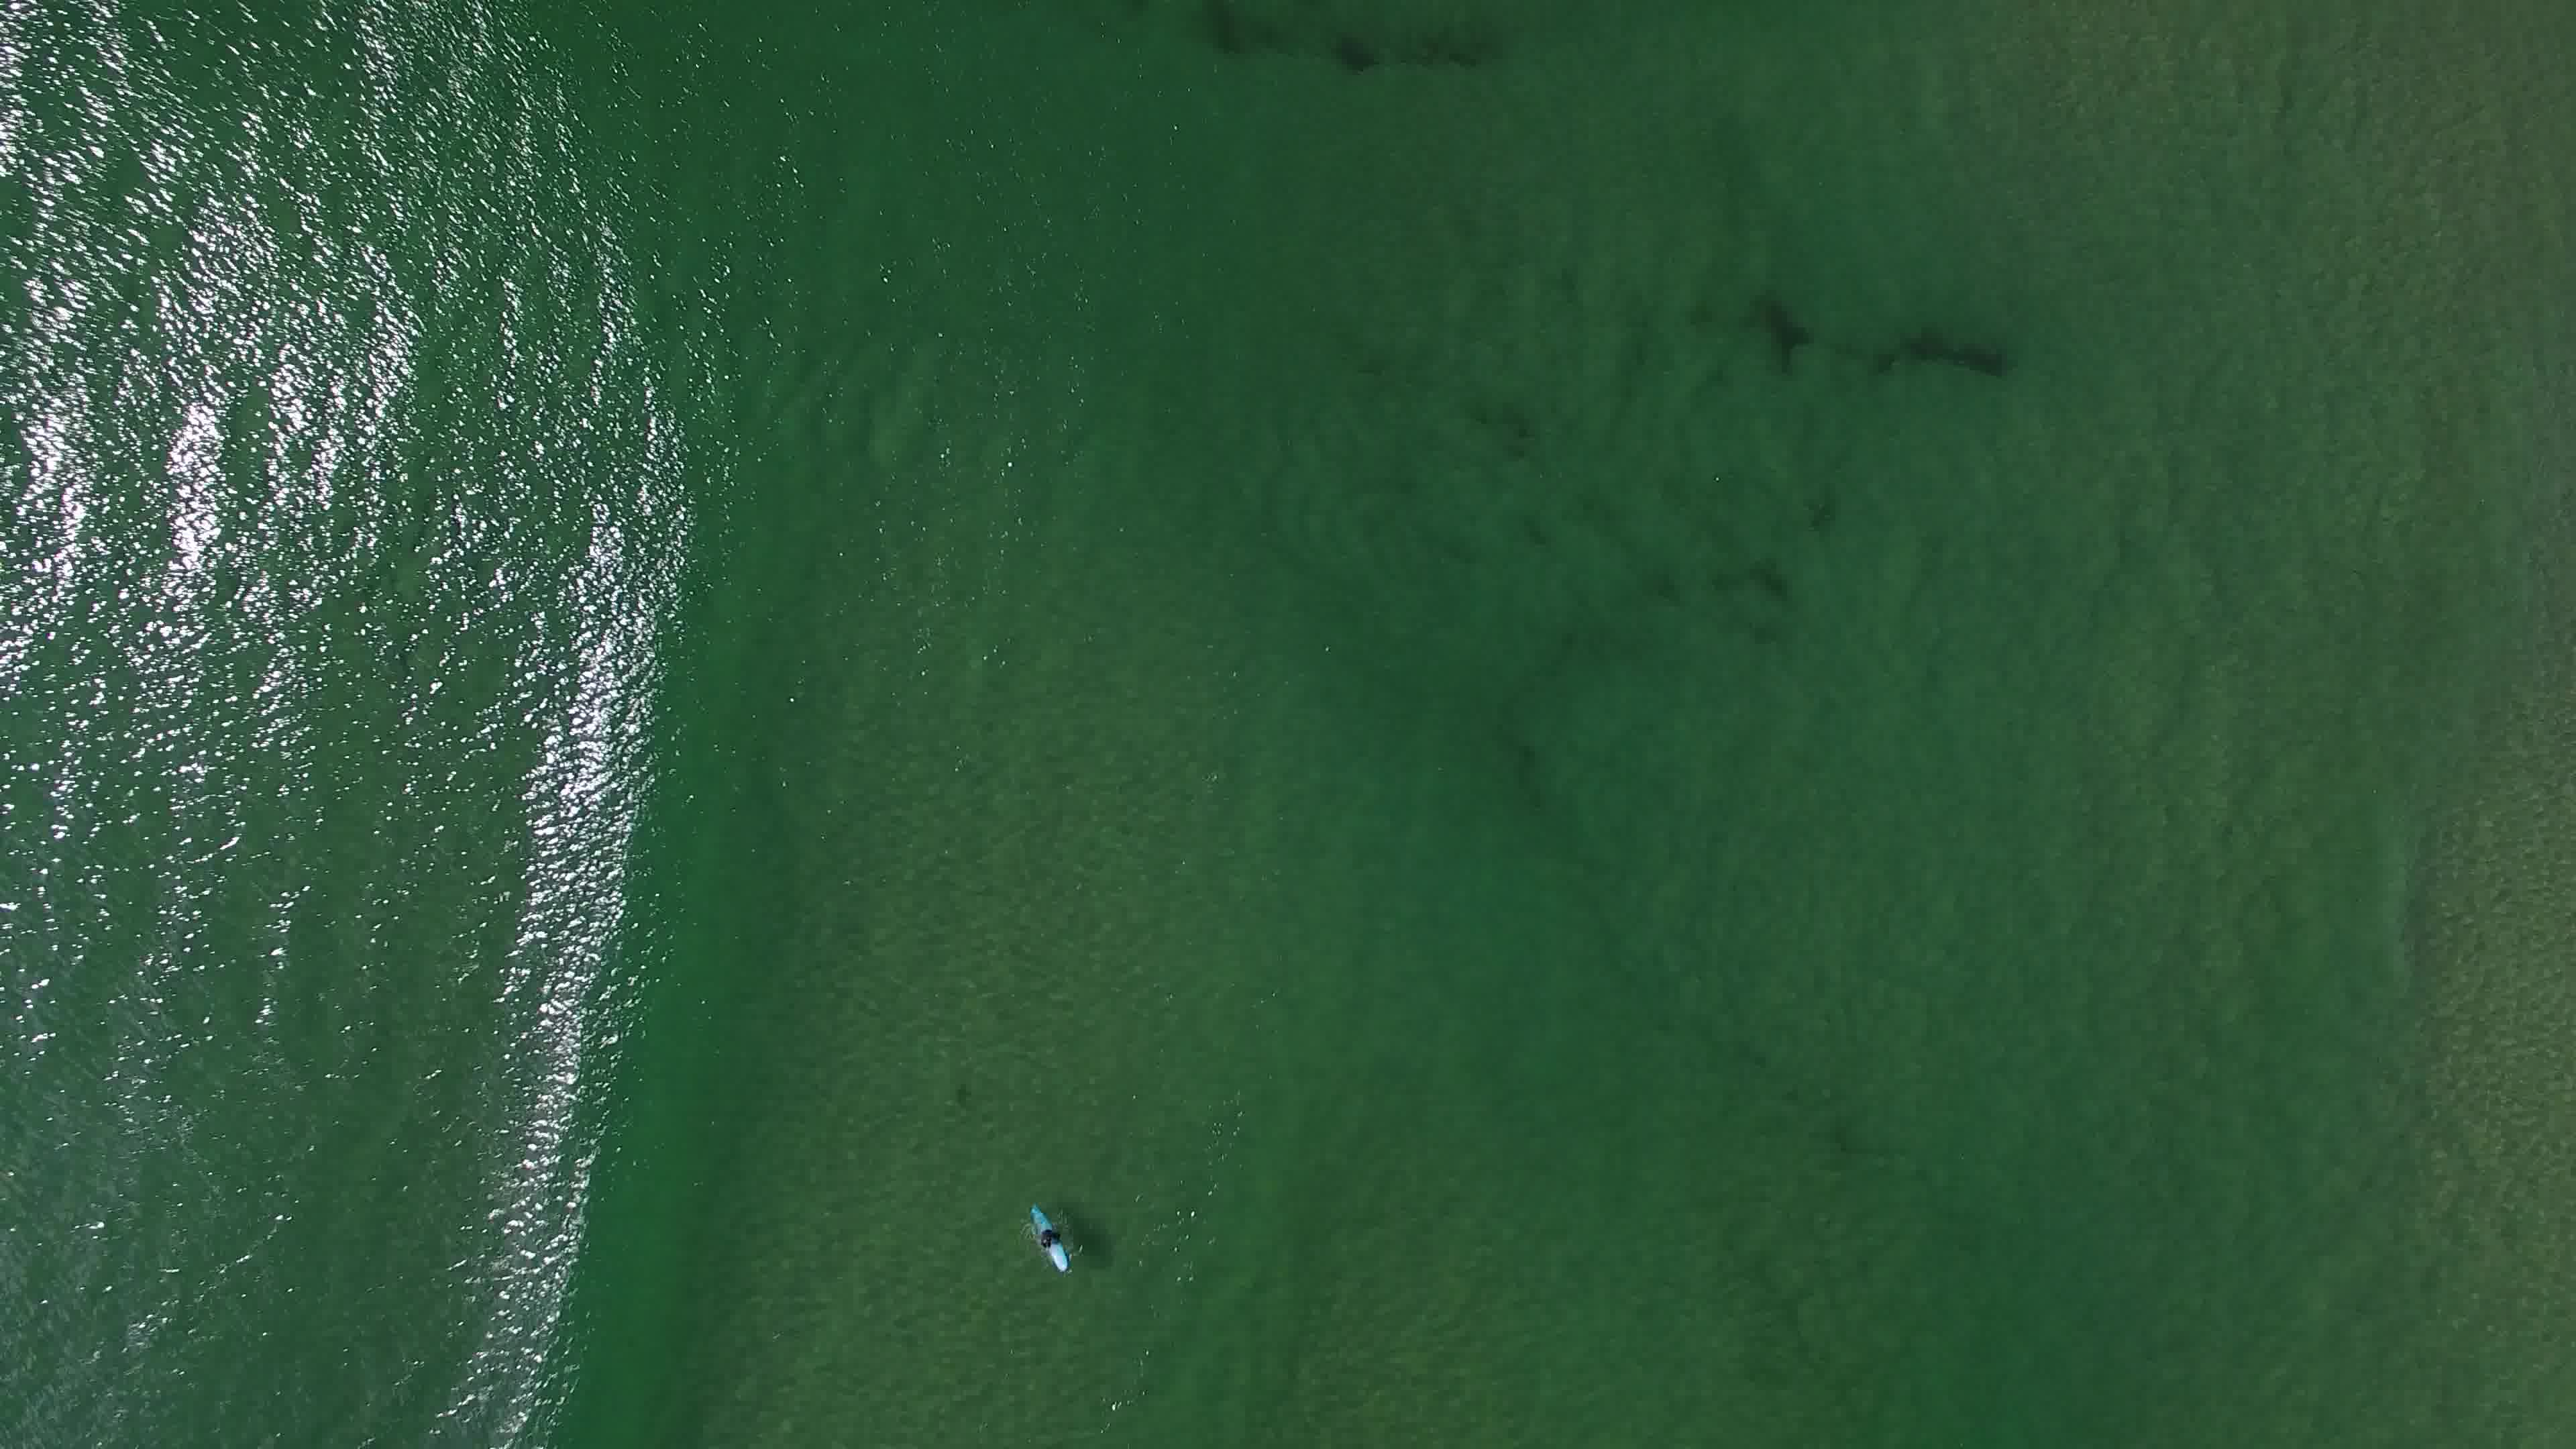surfer: (1012, 1198, 1079, 1284)
